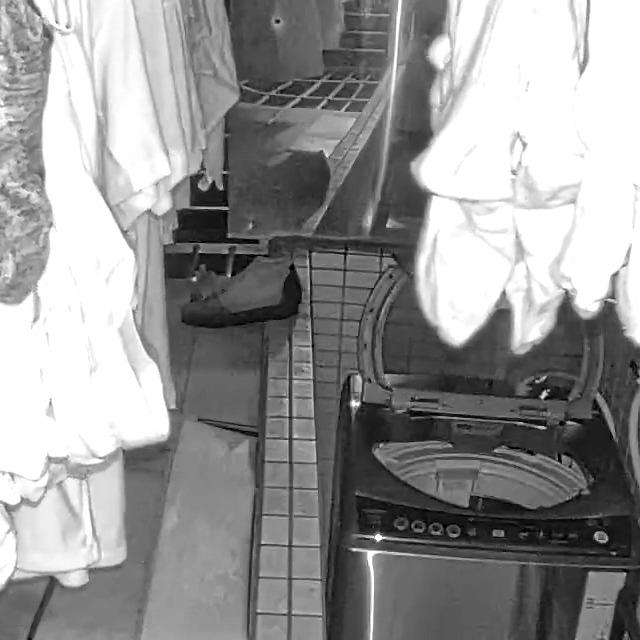rat: (188, 264, 234, 324)
